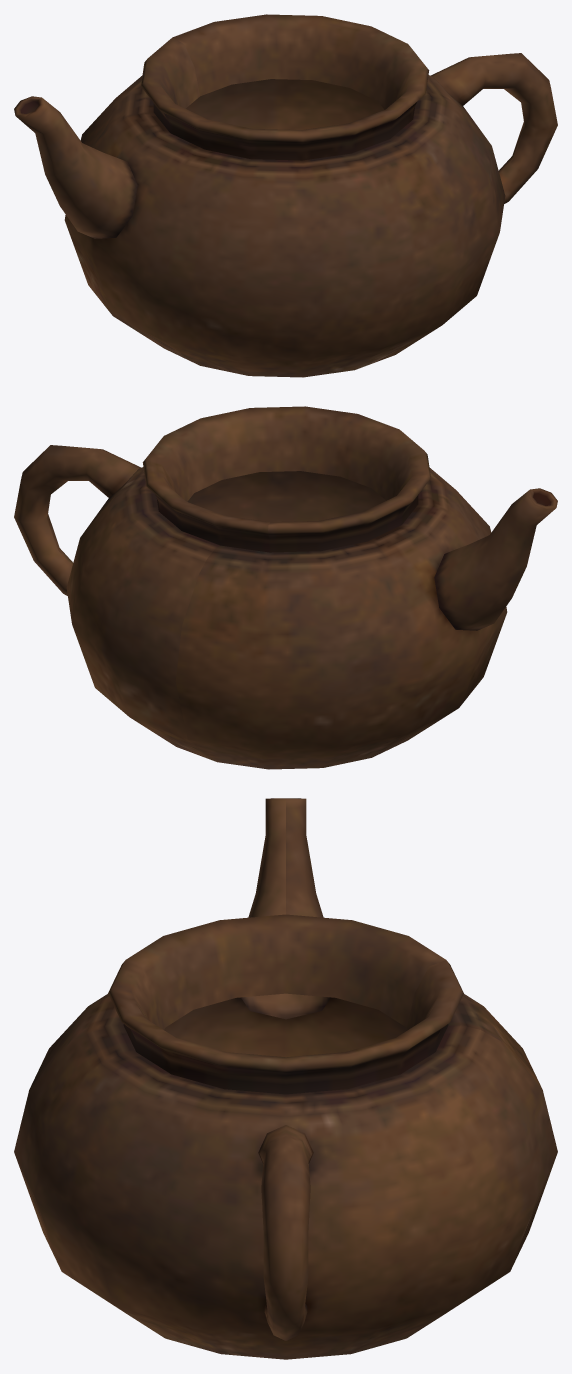
Rendered from pottery03.FBX.
The picture shows the model from 3 angles, top to bottom: view 1: azimuth 30°, elevation 25°; view 2: azimuth 150°, elevation 25°; view 3: azimuth 270°, elevation 25°; orthographic projection. The views are drawn at different scales.
Visible parts, largest first — view 1: SM_Pottery03; view 2: SM_Pottery03; view 3: SM_Pottery03.
Part boxes in pixels (x1,y1,x2,y2): SM_Pottery03: [14, 14, 557, 377]; SM_Pottery03: [14, 406, 557, 769]; SM_Pottery03: [14, 798, 557, 1359].
Size of the model in its own units: 35.55 by 18.34 by 25.31.
Materials: 1 (1 with a texture image).
